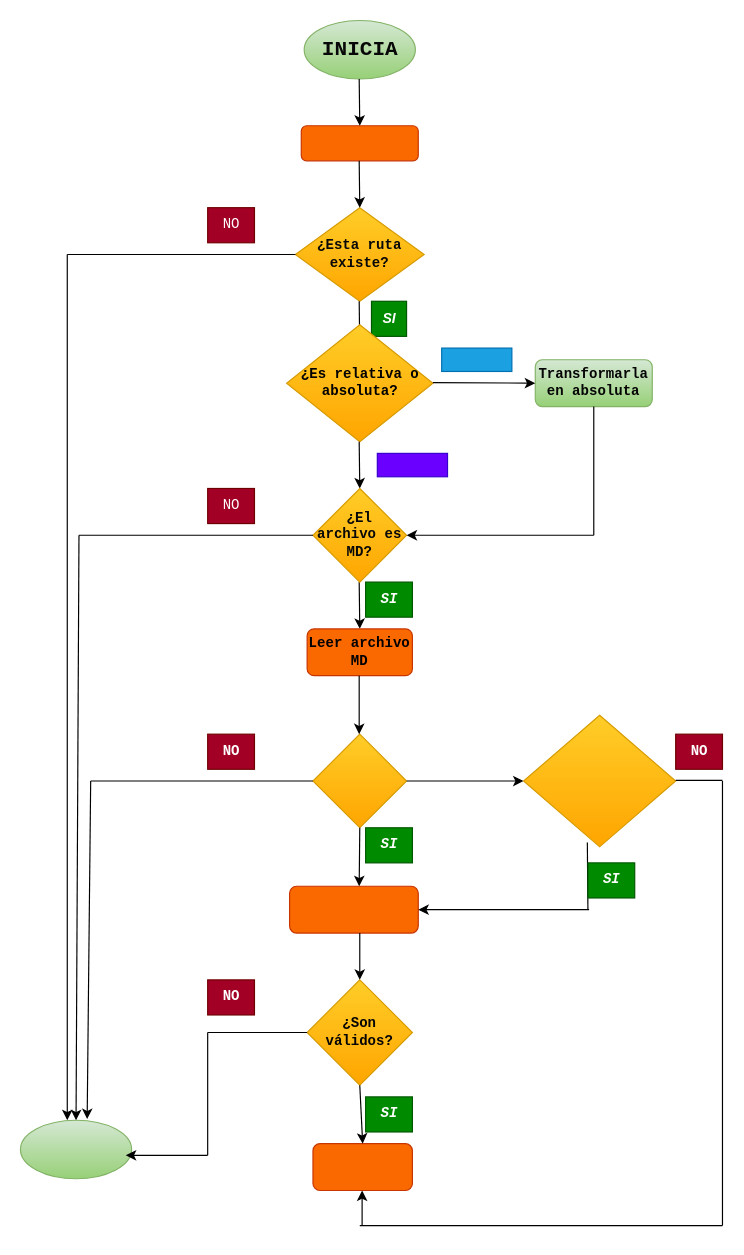
Some shapes in this 744 by 1255 pixel diagram are drawn without their labels. Here are the shapes that lost their labels. From the top down, the box of each, then its label:
(300, 125, 418, 161): Ingresa la ruta
(441, 347, 512, 371): RELATIVA
(376, 452, 448, 477): ABSOLUTA
(312, 733, 407, 828): ¿Tiene links?
(522, 714, 676, 847): ¿Usuario pidió validar?
(288, 885, 418, 933): Añadir los link al archivo
(19, 1119, 132, 1179): FIN
(312, 1143, 412, 1190): Mostrar contenido de links
